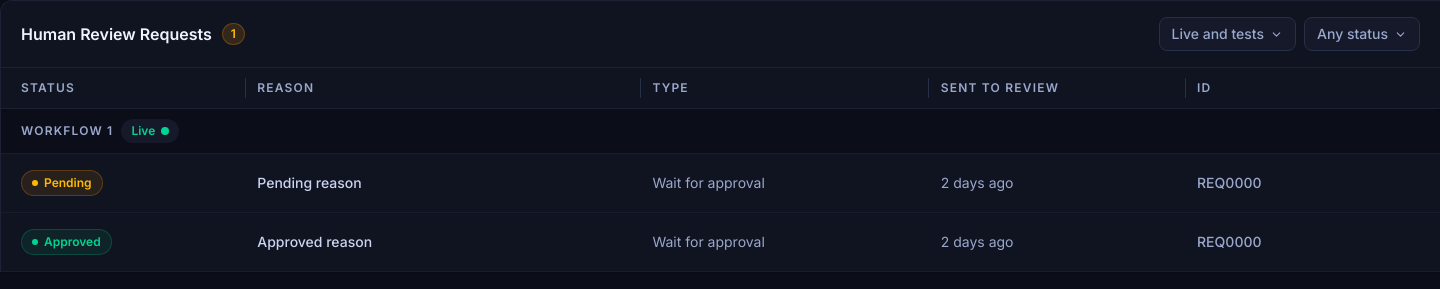
Scenario: HumanReviewTable › filtering › hides approved rows when Approved status is deselected
The width and height of the screenshot is (1440, 289).
Click the button "Any status": click(1362, 34) x1=1304 y1=17 x2=1420 y2=51
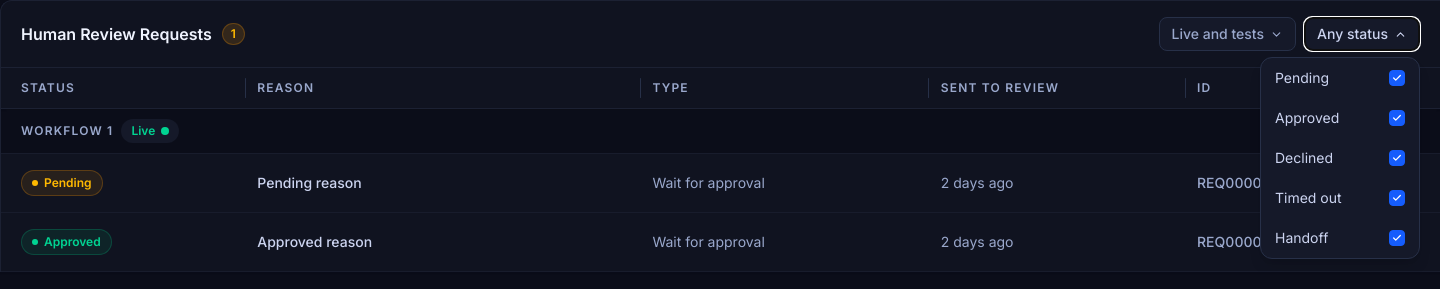
Click the button "Approved": click(1340, 118) x1=1261 y1=98 x2=1419 y2=138
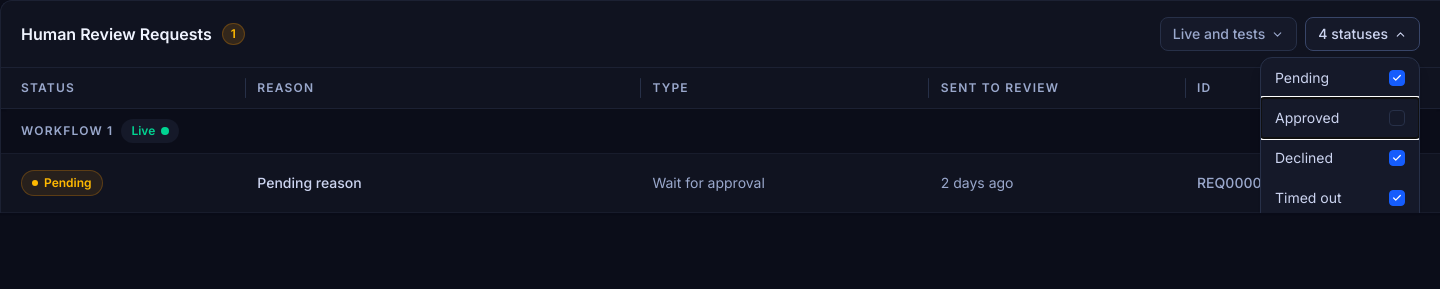
Expected: the text "Pending reason" is shown, x1=257 y1=173 x2=362 y2=193
Now the text "Approved reason" is gone
